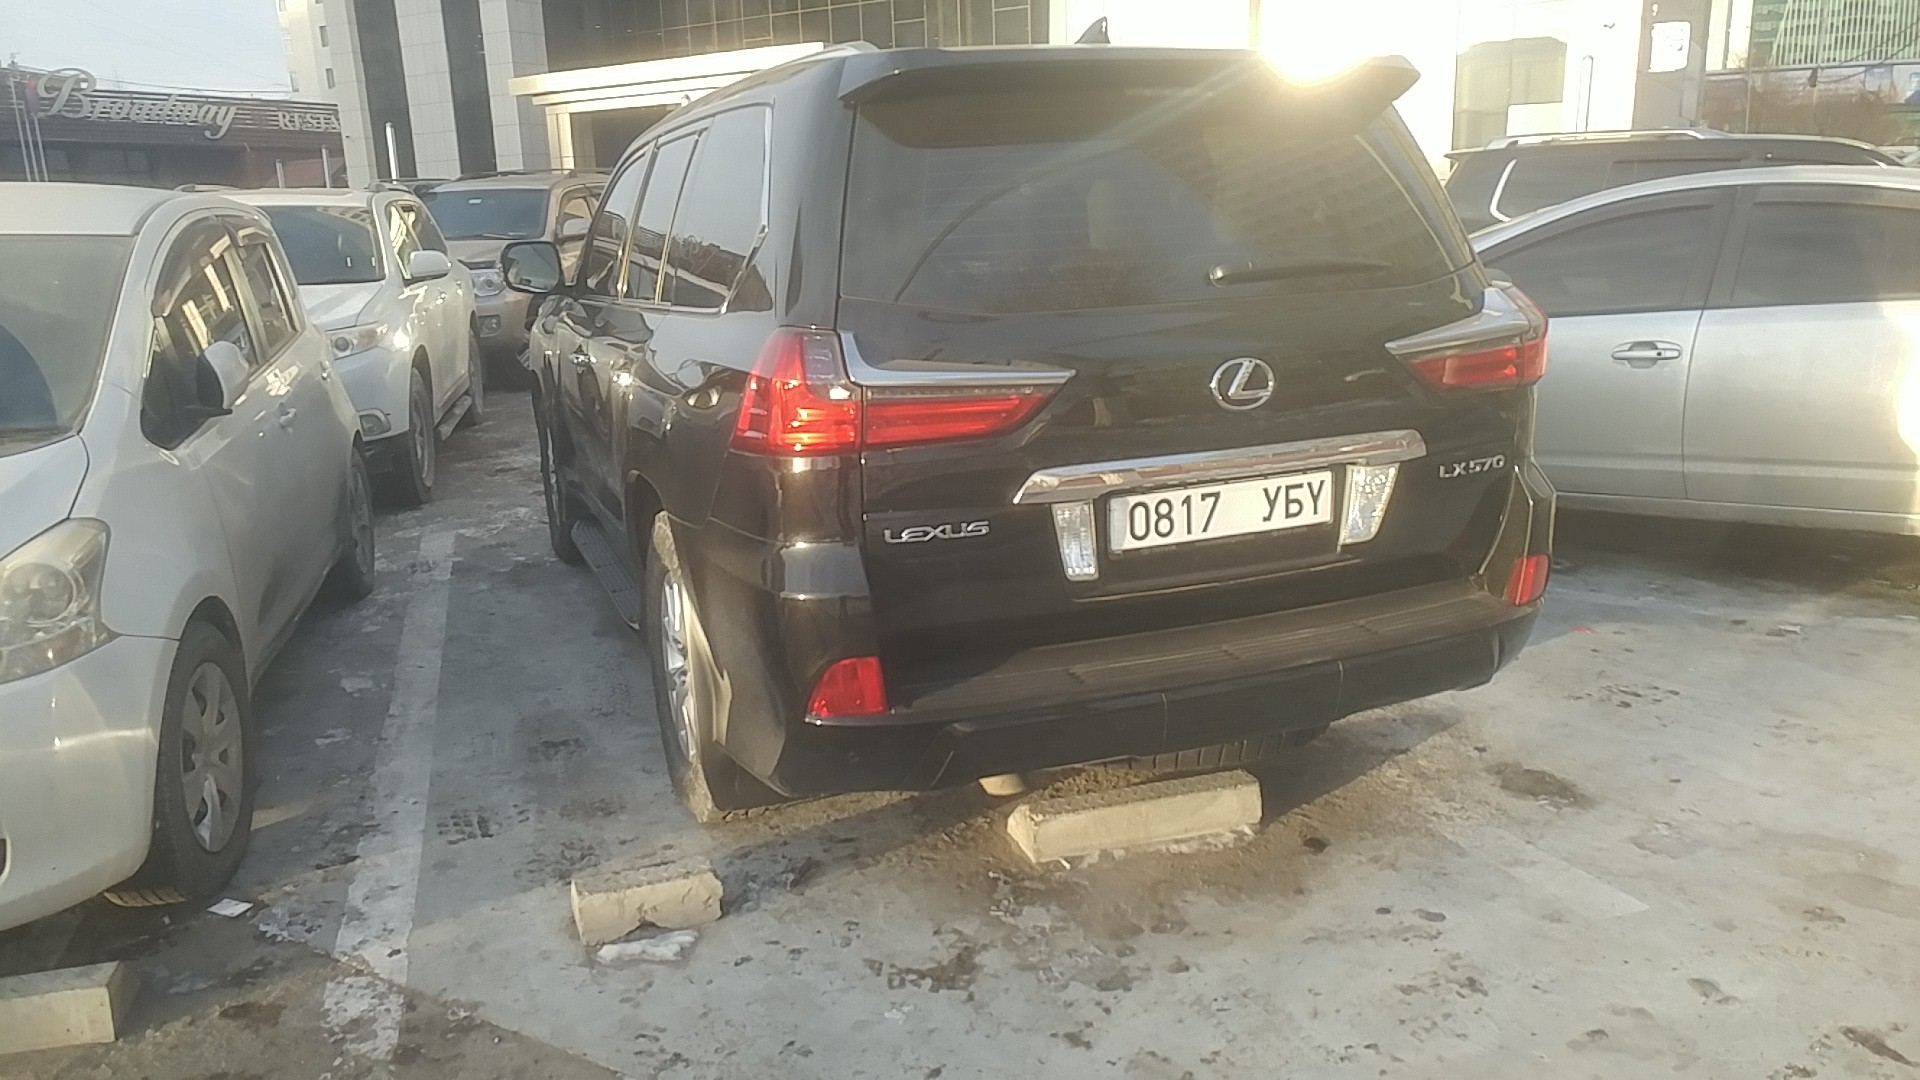0: (1129, 501, 1151, 541)
1: (1179, 493, 1195, 537)
7: (1199, 491, 1222, 533)
8: (1154, 499, 1177, 538)
b: (1283, 481, 1306, 520)
plate: (1099, 465, 1343, 557)
u: (1259, 483, 1283, 522)
uu: (1305, 479, 1327, 517)
